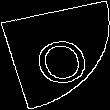O_N: (22, 25, 88, 85)
